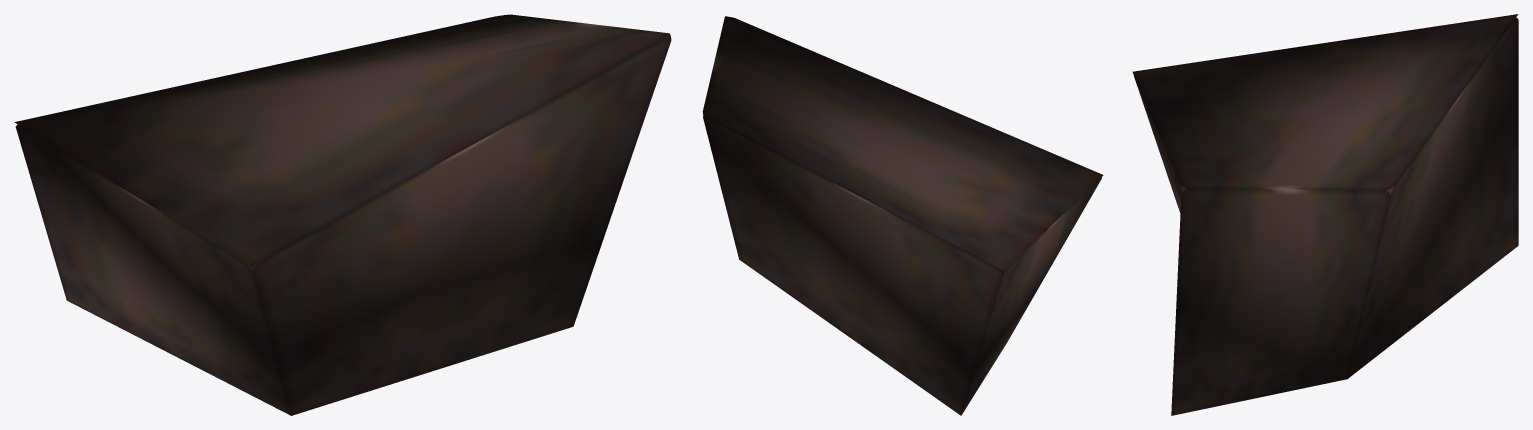
3 views of the same model, side by side, from view 1: azimuth 30°, elevation 25°; view 2: azimuth 150°, elevation 25°; view 3: azimuth 270°, elevation 25° (orthographic). The views are drawn at different scales.
Visible parts, largest first — view 1: T1L4M008_11; view 2: T1L4M008_11; view 3: T1L4M008_11.
Part boxes in pixels (x1,y1,x2,y2): T1L4M008_11: [14, 14, 671, 415]; T1L4M008_11: [702, 16, 1103, 415]; T1L4M008_11: [1132, 14, 1518, 415].
Size of the model in its own units: 0.2334 by 0.1357 by 0.1455.
